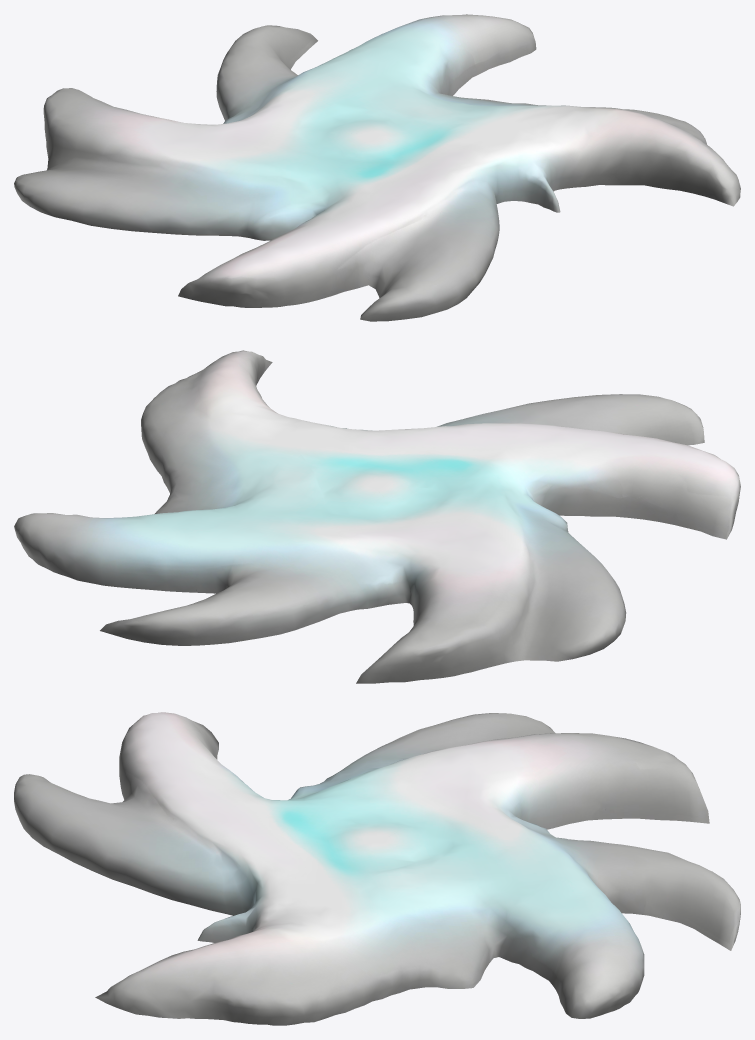
Rendered from rasenshuriken.glb.
3 views of the same model, one above another, from view 1: azimuth 30°, elevation 25°; view 2: azimuth 150°, elevation 25°; view 3: azimuth 270°, elevation 25° (orthographic). The views are drawn at different scales.
Visible parts, largest first — view 1: Cyan Core Spiral Vortex; view 2: Cyan Core Spiral Vortex; view 3: Cyan Core Spiral Vortex.
Part boxes in pixels (x1,y1,x2,y2): Cyan Core Spiral Vortex: (14,14,740,321); Cyan Core Spiral Vortex: (14,350,740,683); Cyan Core Spiral Vortex: (14,712,740,1025).
Bounding box in the file's own units: 0.9668 × 0.0996 × 0.998.
1 material, 1 textured.
